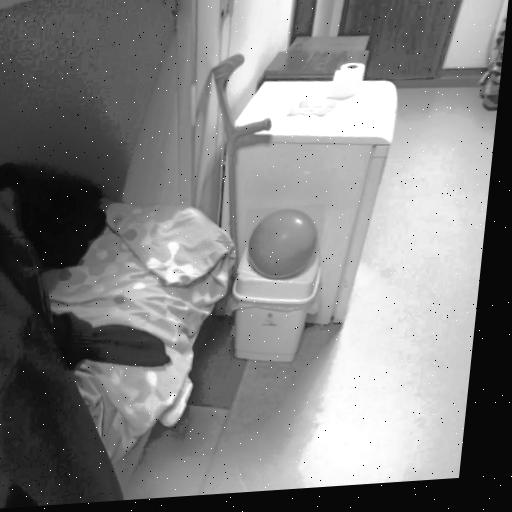balloon: (239, 204, 325, 286)
